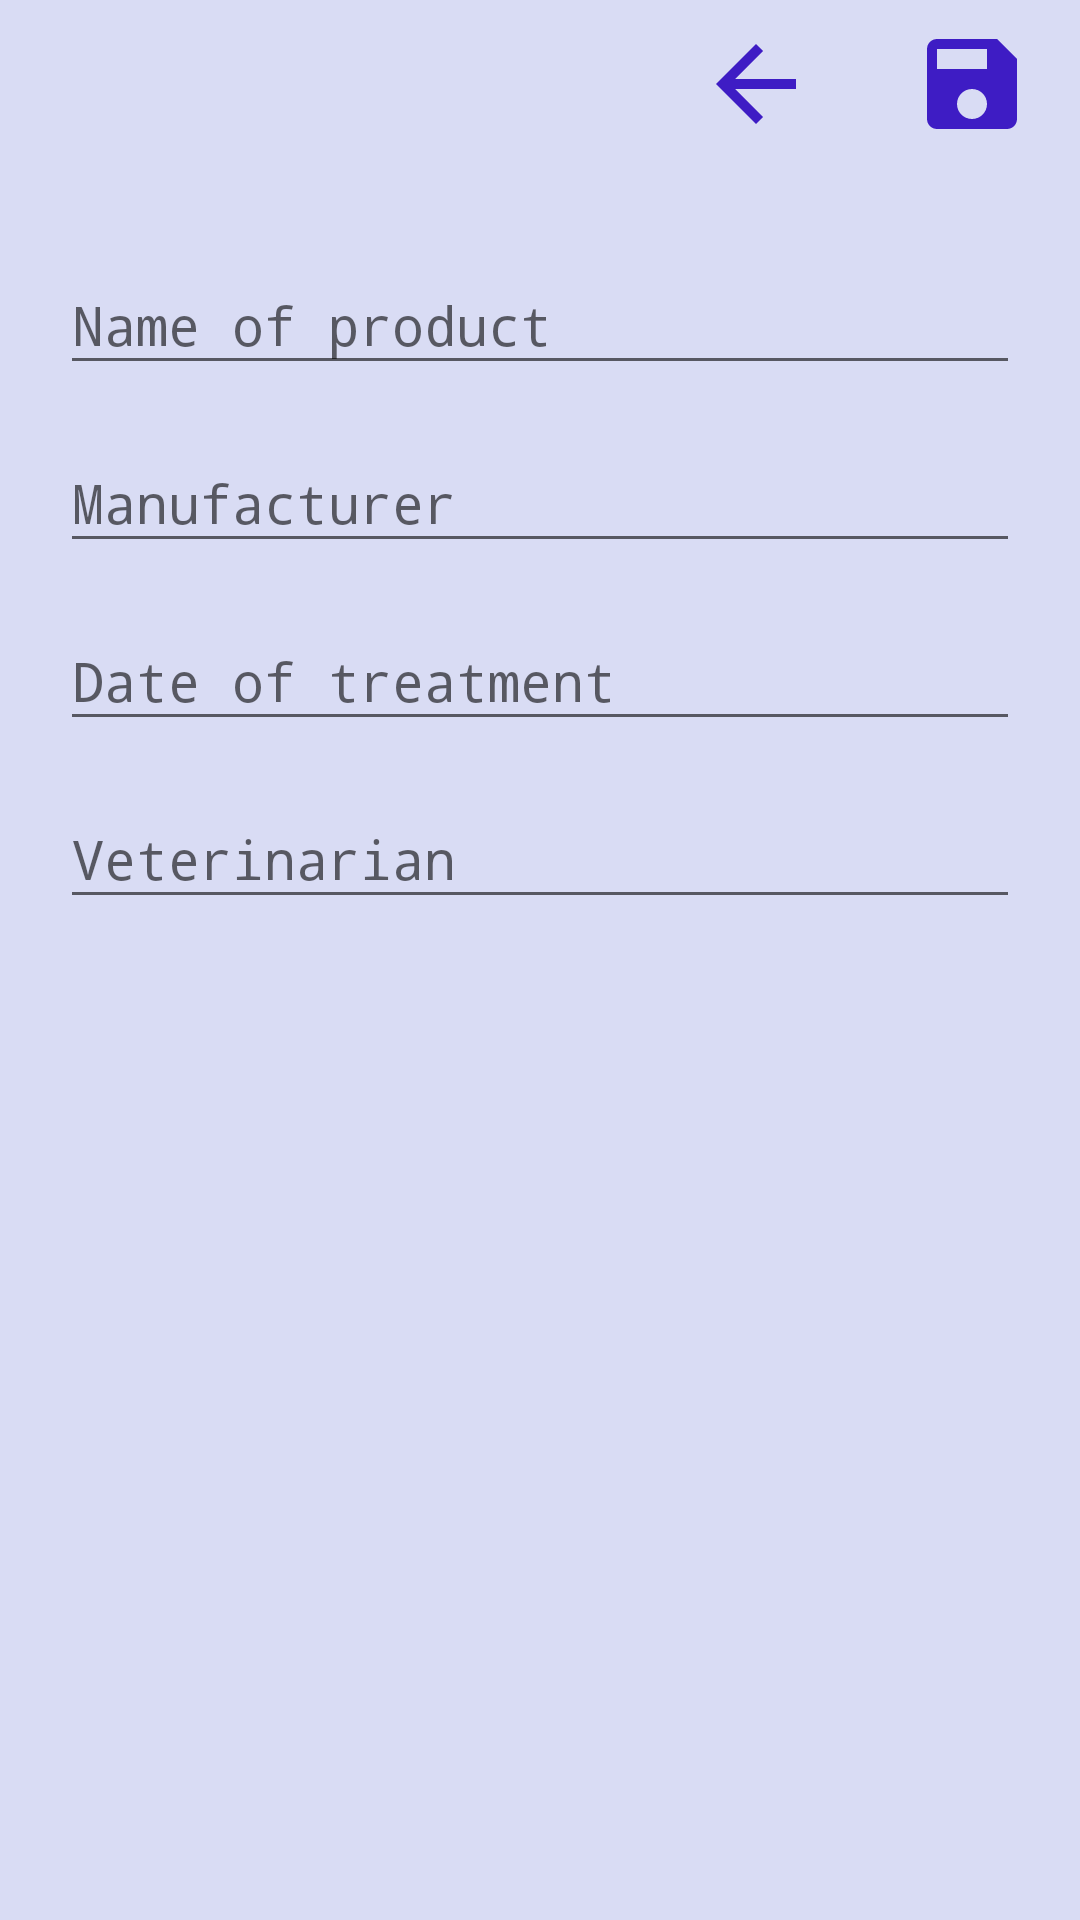

Where icons sit on this 1080 × 1920 app screen, as (x1, y1, x2, y2):
back: (716, 44, 796, 124)
save: (927, 39, 1017, 129)
